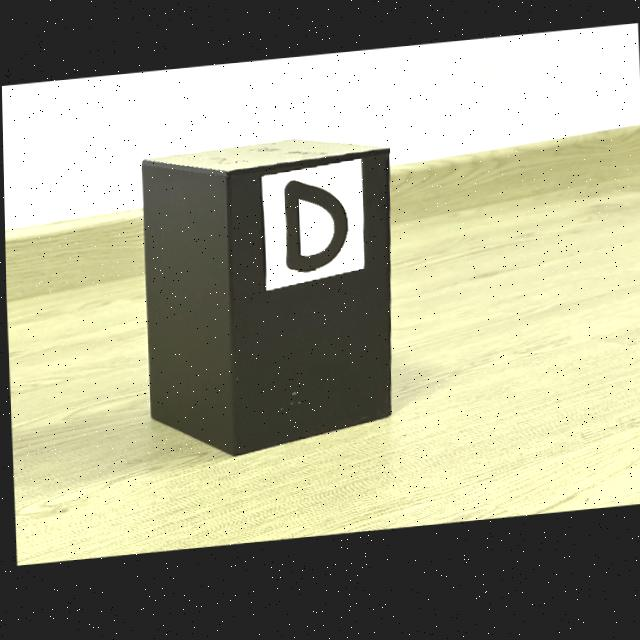D: (283, 186, 346, 276)
